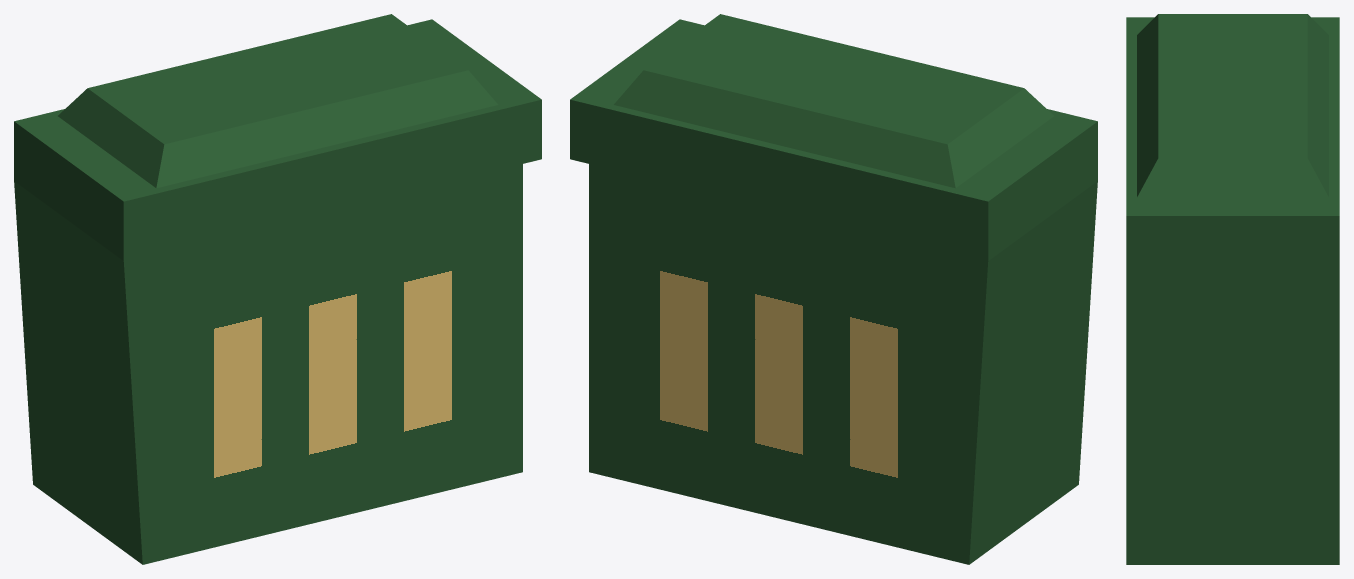
File: ammocan2.gltf
3 renders of one model, left to right at view 1: azimuth 30°, elevation 25°; view 2: azimuth 150°, elevation 25°; view 3: azimuth 270°, elevation 25°, orthographic. The views are drawn at different scales.
Visible parts, largest first — view 1: ammocan; view 2: ammocan; view 3: ammocan.
Part boxes in pixels (<box>): ammocan: <box>14,14,541,564</box>; ammocan: <box>570,14,1097,564</box>; ammocan: <box>1126,14,1339,564</box>.
Size of the model in its own units: 0.1375 by 0.1254 by 0.0625.
1 material, 1 textured.
